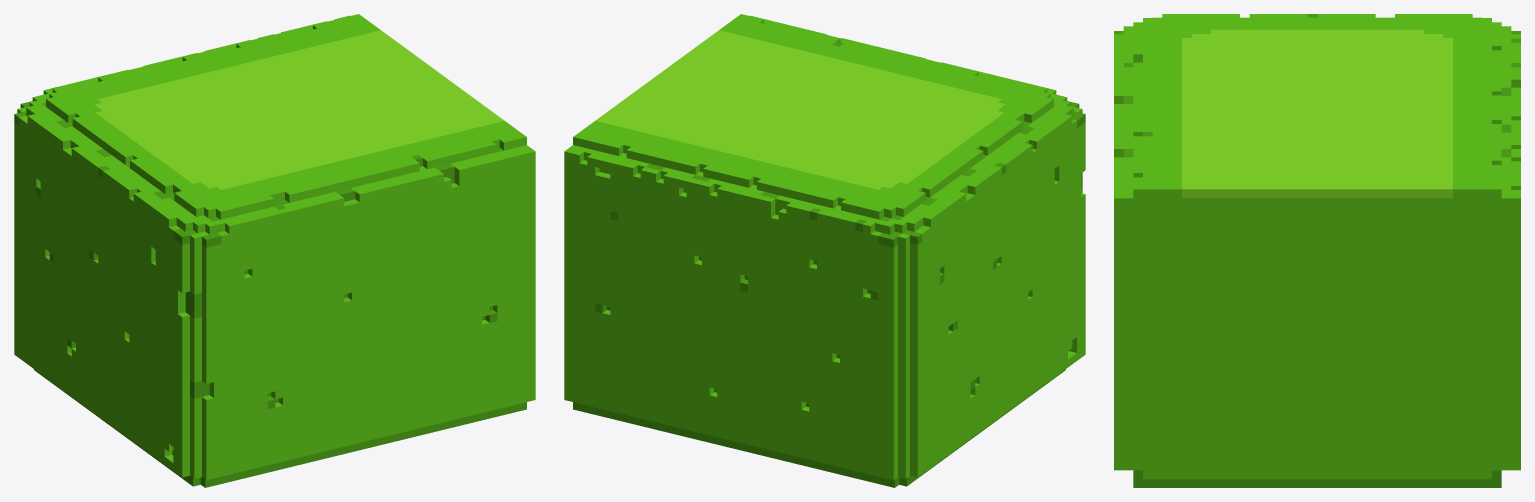
File: shrub-end.obj
3 renders of one model, left to right at view 1: azimuth 30°, elevation 25°; view 2: azimuth 150°, elevation 25°; view 3: azimuth 270°, elevation 25°, orthographic. The views are drawn at different scales.
Bounding box in the file's own units: 4.5 × 3.4 × 4.2.
1 material, 1 textured.
